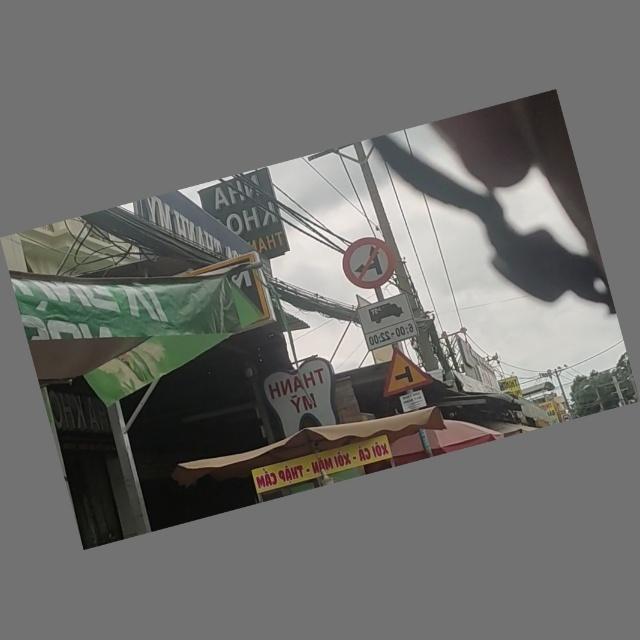P.139: (339, 233, 397, 293)
S.505a*Xe tai: (356, 293, 420, 352)
W.205b: (374, 342, 433, 399)
